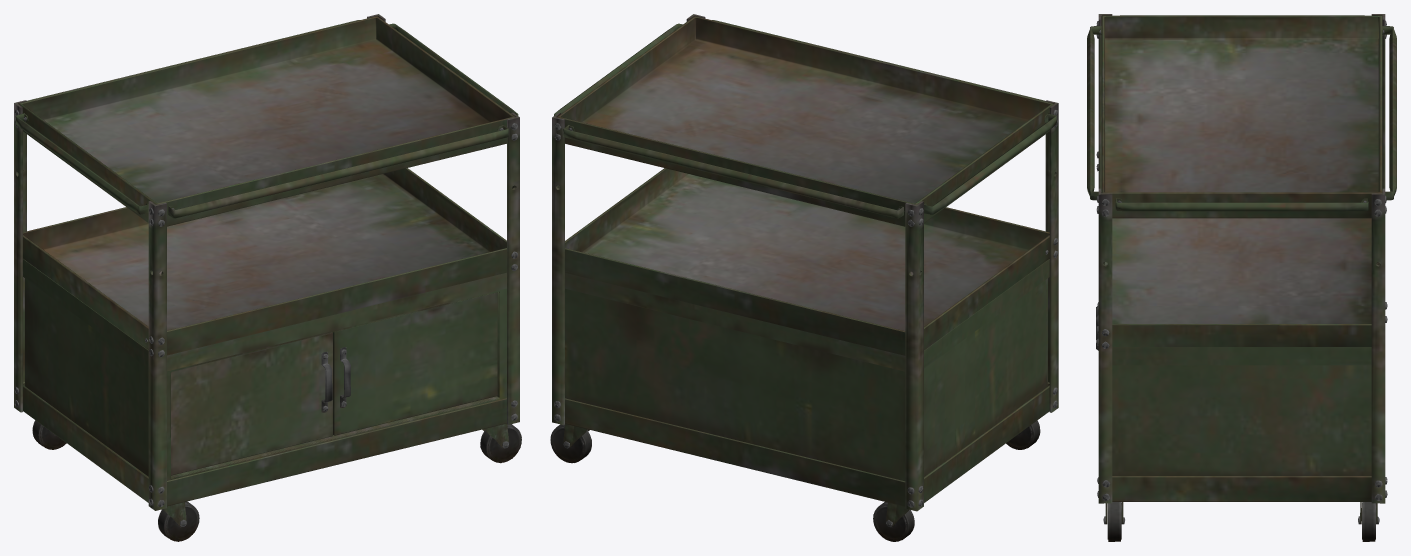
Rendered from distance.fbx.
3 renders of one model, left to right at view 1: azimuth 30°, elevation 25°; view 2: azimuth 150°, elevation 25°; view 3: azimuth 270°, elevation 25°, orthographic.
Visible parts, largest first — view 1: industrial_storage_cart; view 2: industrial_storage_cart; view 3: industrial_storage_cart.
Boxes of the visible parts, bbox=[...] form: industrial_storage_cart: bbox=[14, 14, 521, 541]; industrial_storage_cart: bbox=[550, 14, 1058, 541]; industrial_storage_cart: bbox=[1087, 14, 1396, 541].
Size of the model in its own units: 160 by 138 by 110.
